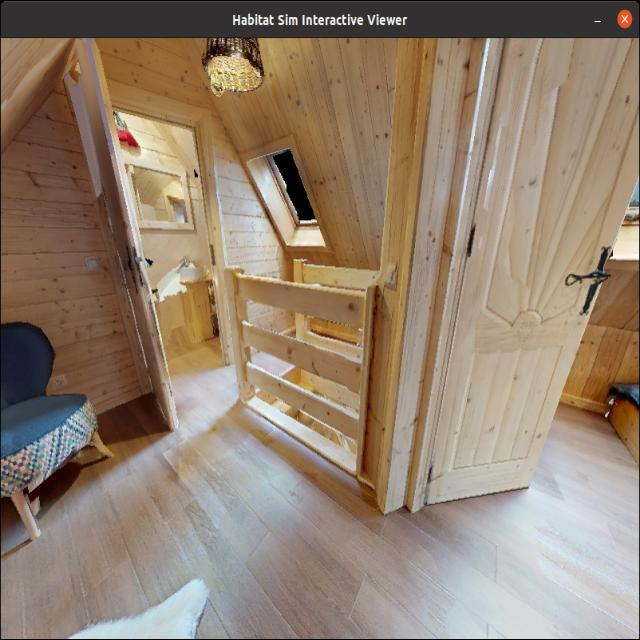door: (460, 41, 631, 498)
door-frame: (103, 105, 240, 403)
